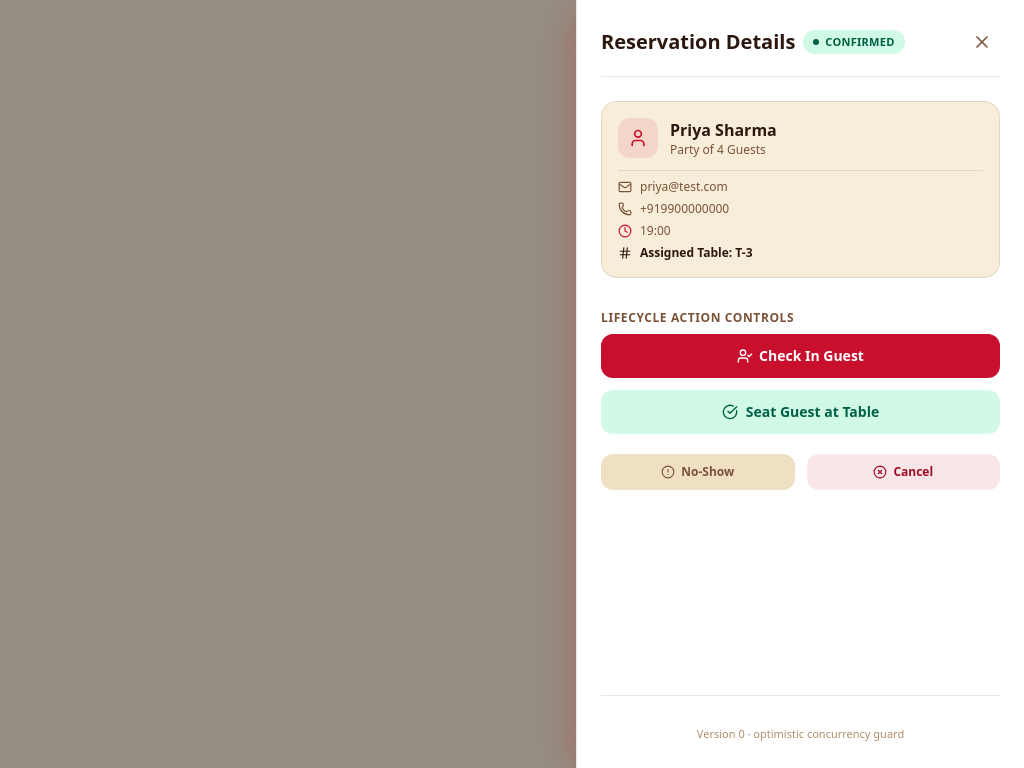
Test: ReservationDrawer table-occupancy conflict on seating › offers a Reassign option when the backend suggests a free alternate table
Click the button "Seat Guest at Table".
click(800, 412)  # box left=601, top=390, right=1000, bottom=434
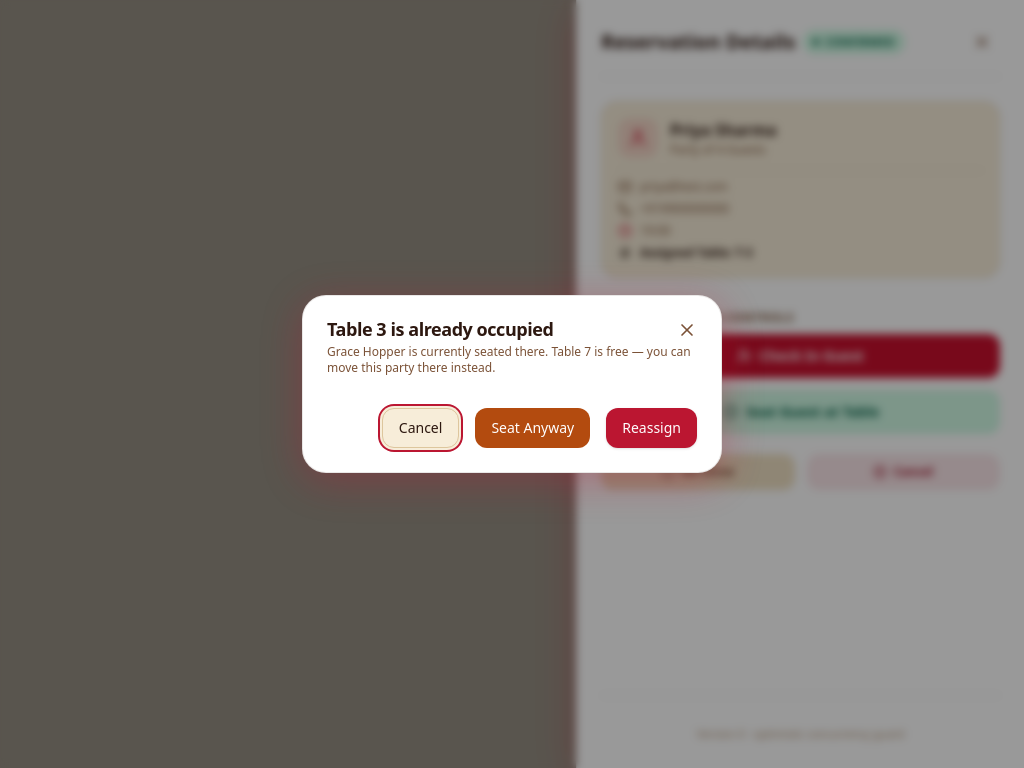
Check: the button "Reassign" is shown, box left=606, top=408, right=697, bottom=448
